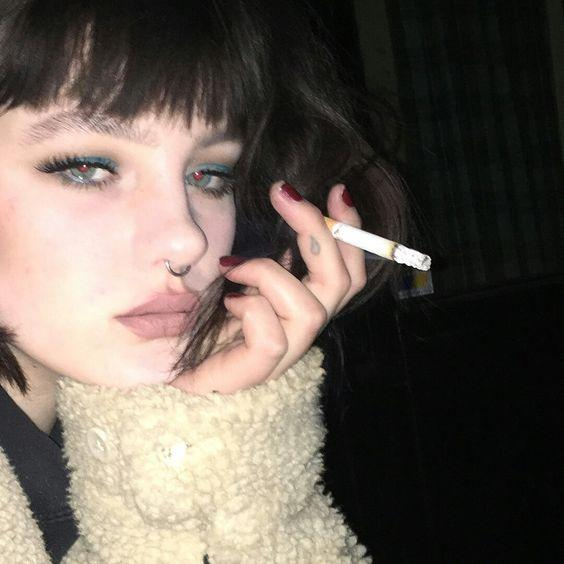cigarette: (330, 214, 431, 271)
